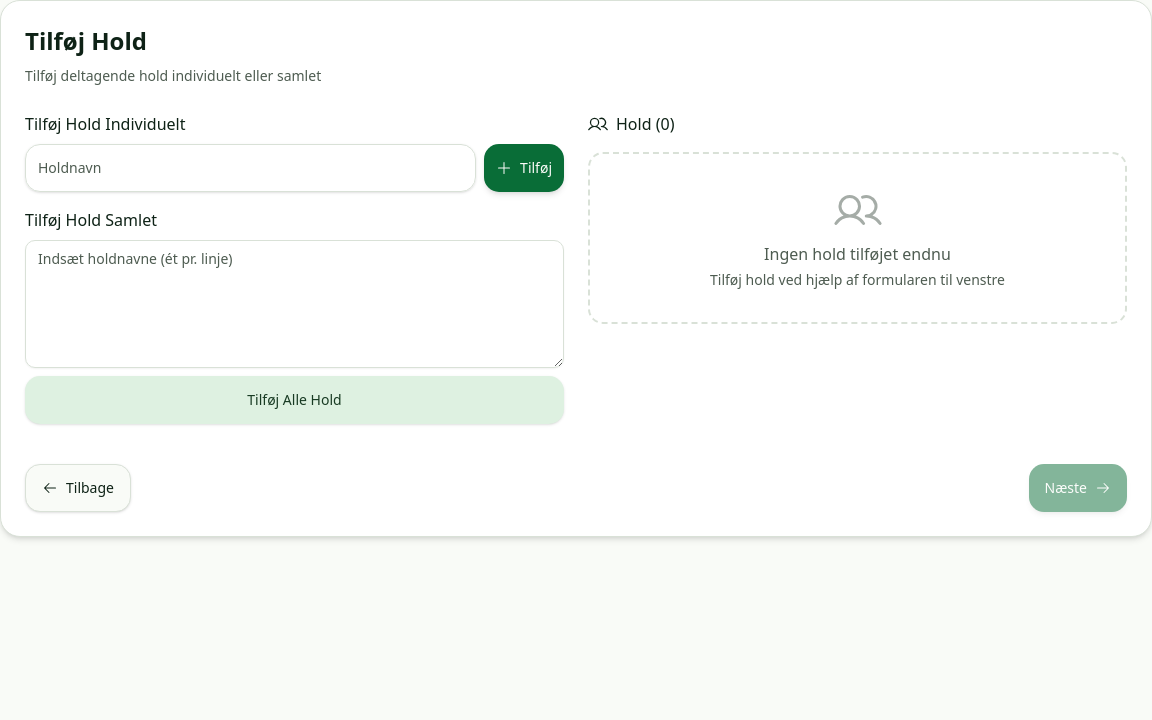
Test: Step2Teams › shows an error when adding an empty team name
Click the button "Tilføj".
click(524, 168)  # box [484,144,564,192]
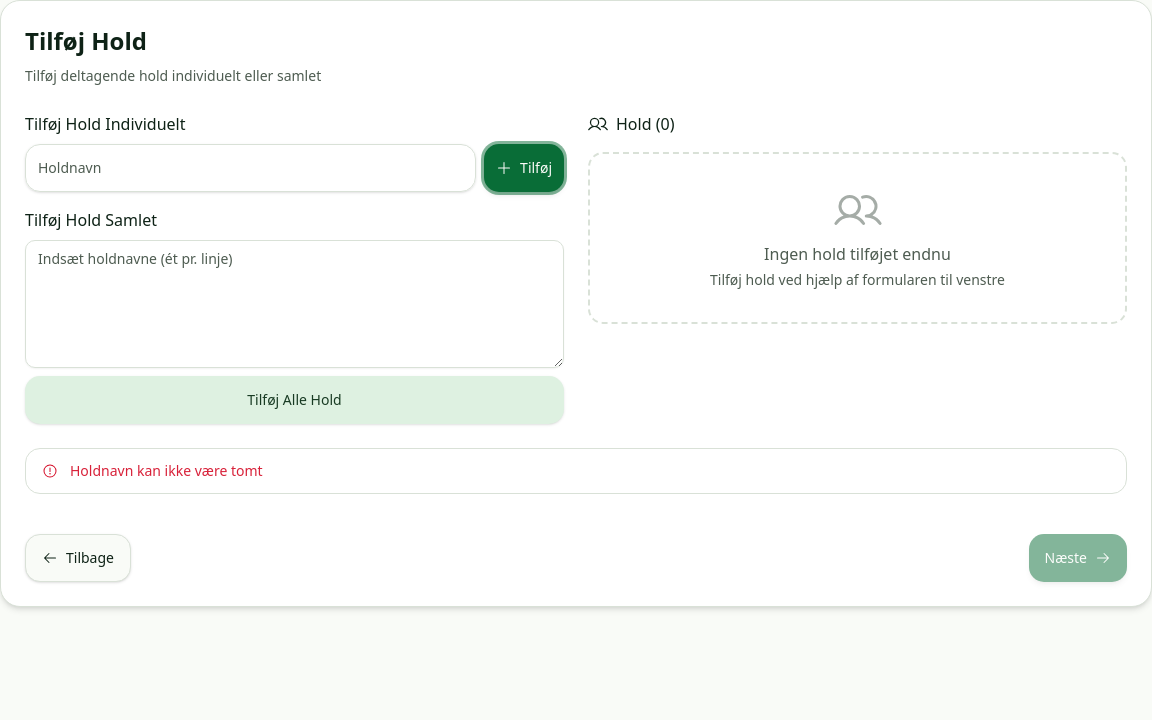
Check: the text "Ingen hold tilføjet endnu" is shown, box [764,243,951,265]
Check: the text "Holdnavn kan ikke være tomt" is shown, box [70,461,263,480]
